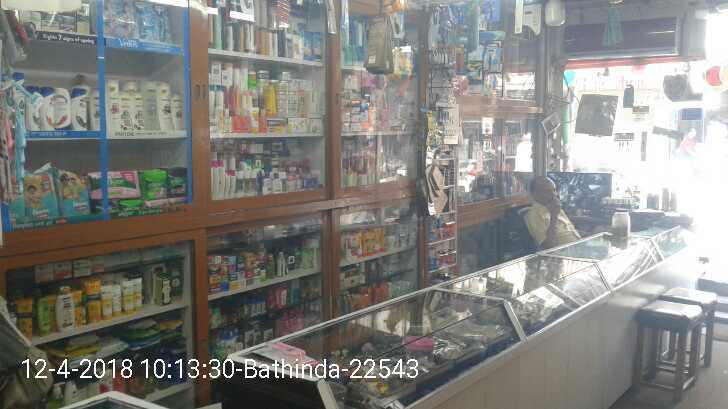venus: (106, 1, 133, 36), (154, 1, 169, 39), (136, 1, 150, 37)
